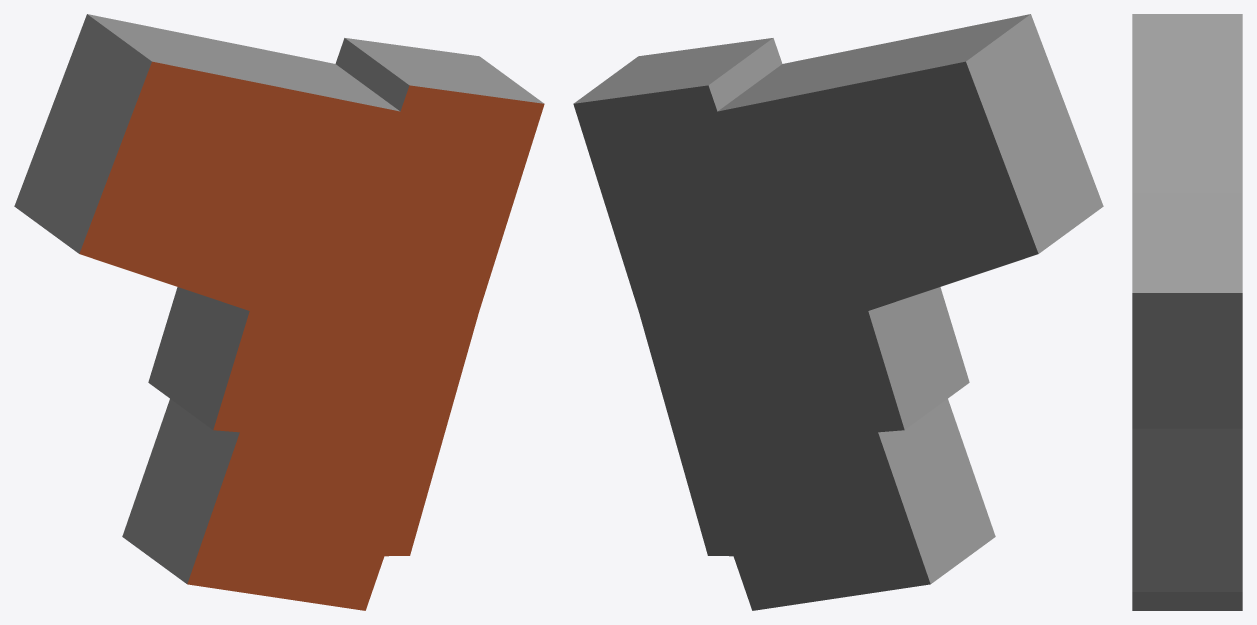
Rendered from construction_2134_assumed_A_Casa_h6m.obj.
3 renders of one model, left to right at view 1: azimuth 30°, elevation 25°; view 2: azimuth 150°, elevation 25°; view 3: azimuth 270°, elevation 25°, orthographic. The views are drawn at different scales.
Visible parts, largest first — view 1: construction_2134_assumed_A_Casa; view 2: construction_2134_assumed_A_Casa; view 3: construction_2134_assumed_A_Casa.
Boxes of the visible parts, x1,y1,x2,y2 form: construction_2134_assumed_A_Casa: [14, 14, 544, 610]; construction_2134_assumed_A_Casa: [573, 14, 1103, 610]; construction_2134_assumed_A_Casa: [1132, 14, 1242, 610].
Bounding box in the file's own units: 24.79 × 30.62 × 6.
